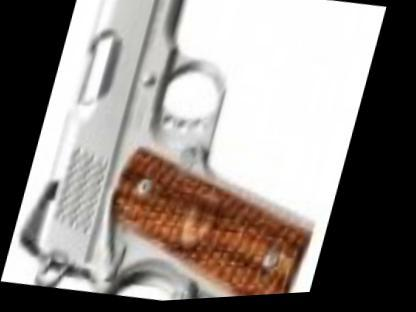pistol: (3, 0, 370, 310)
